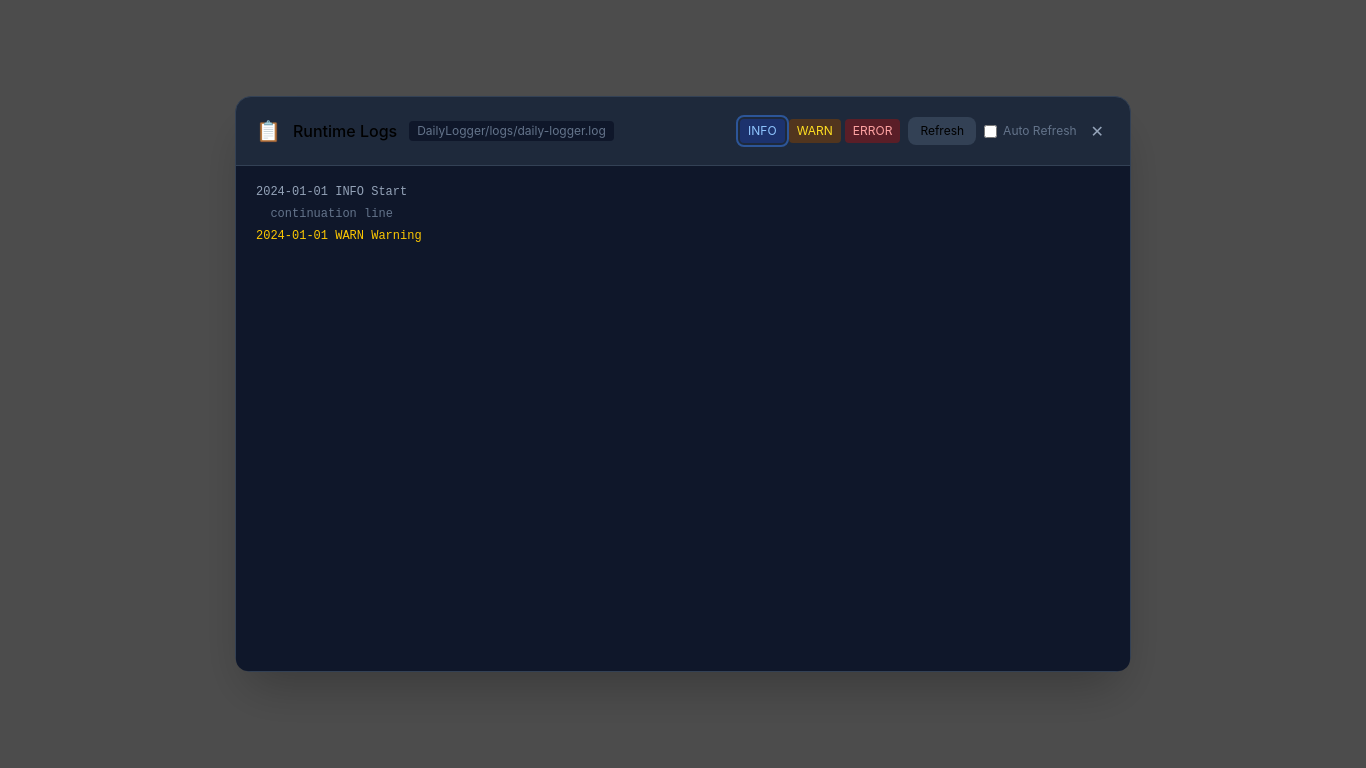
Test: LogViewer › keeps continuation lines when filtering
// Disable WARN
Click the button "WARN".
click(815, 131)  # box x1=789 y1=119 x2=841 y2=143
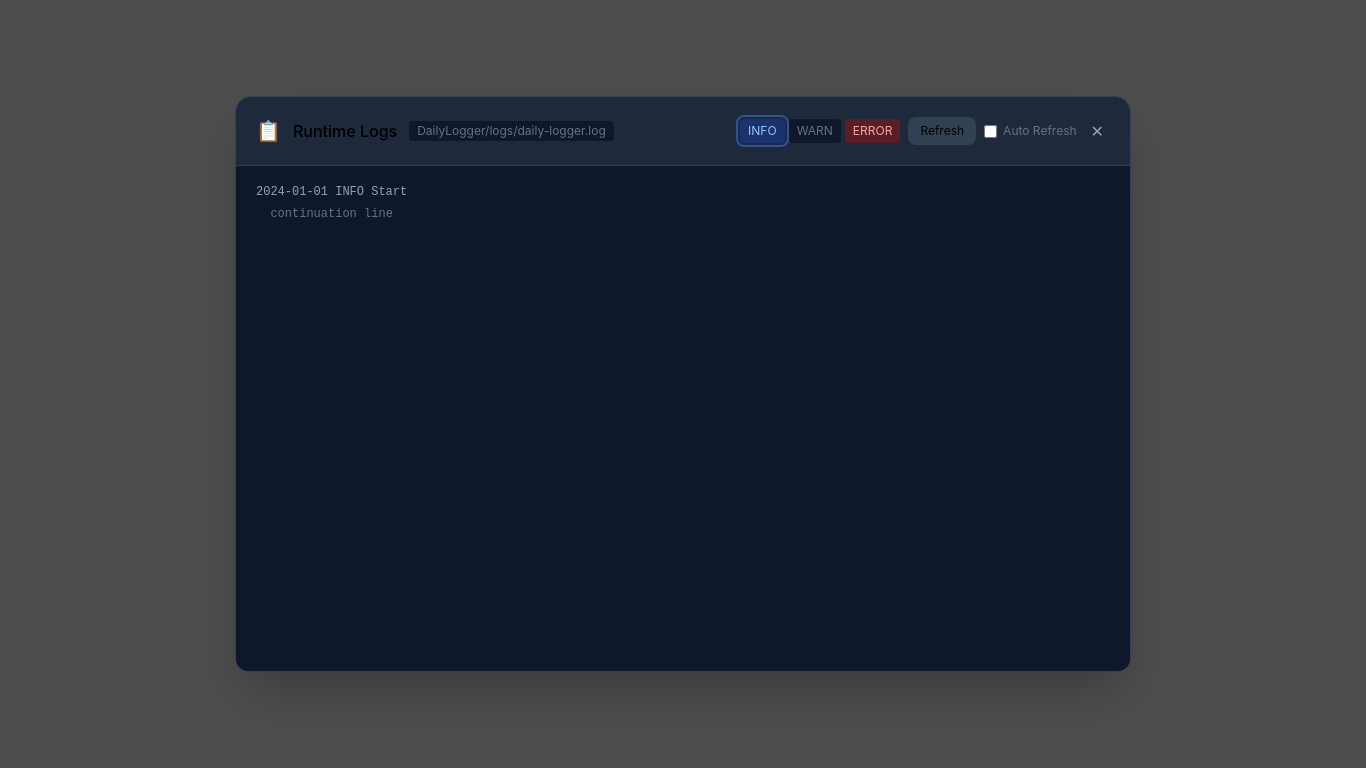
Check: the text "Start" is shown, box x1=256 y1=185 x2=407 y2=199
Check: the text "Warning" is gone
